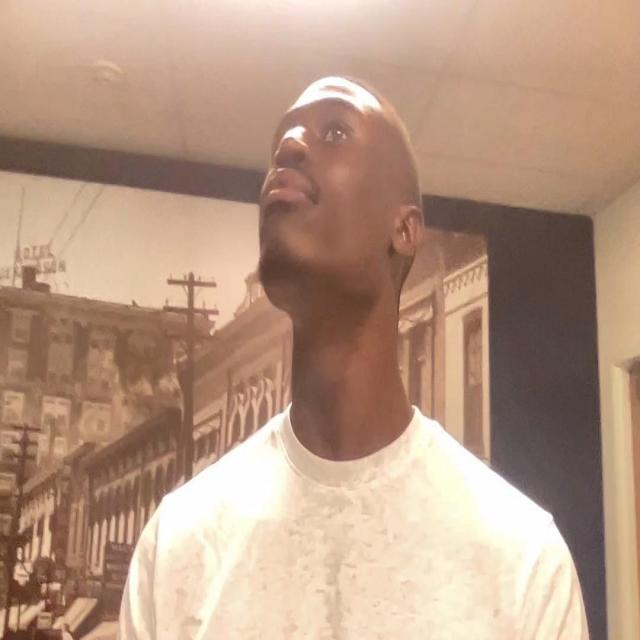face: (258, 74, 422, 314)
